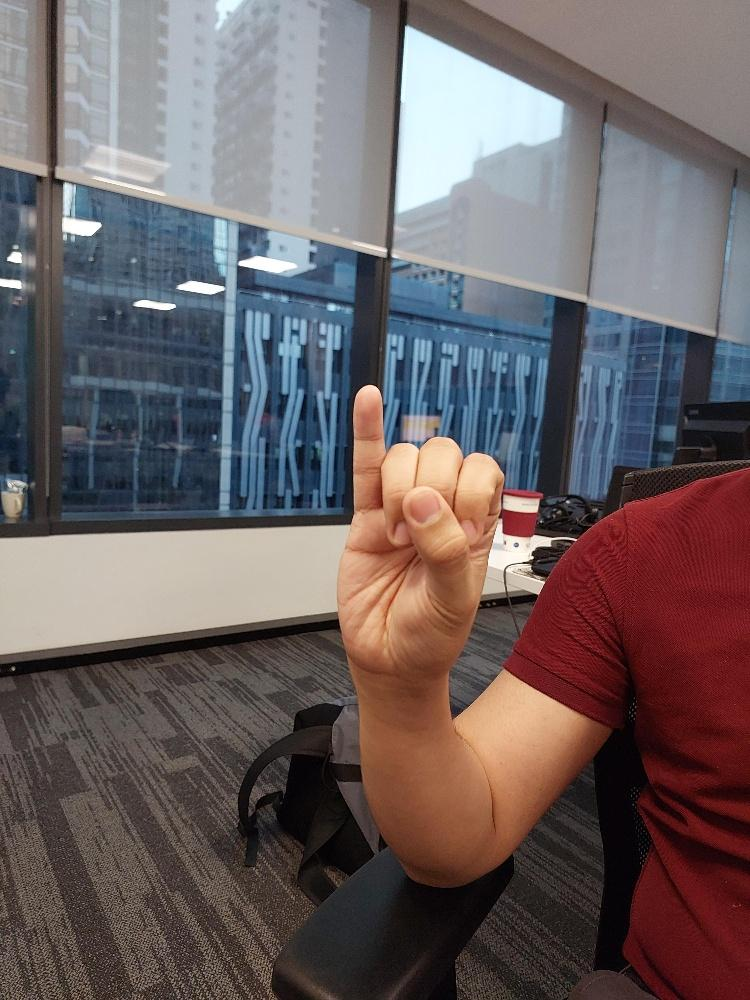i: (333, 380, 506, 684)
